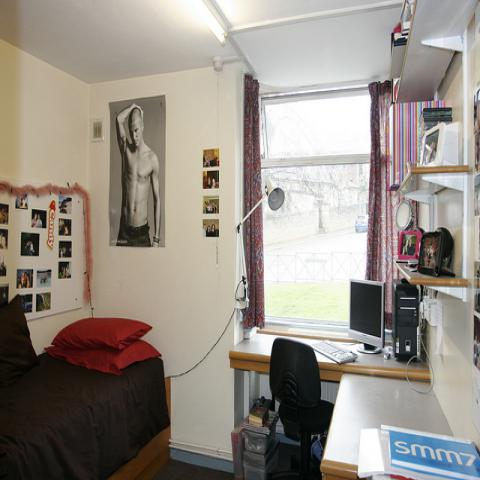car: (355, 214, 368, 233)
